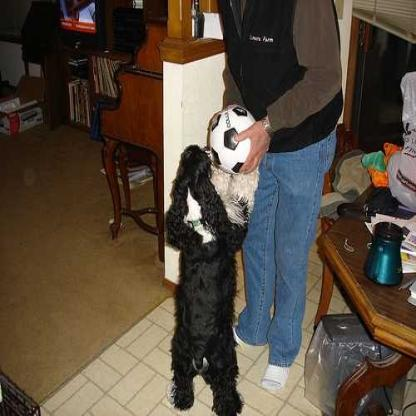ball: (210, 106, 260, 173)
